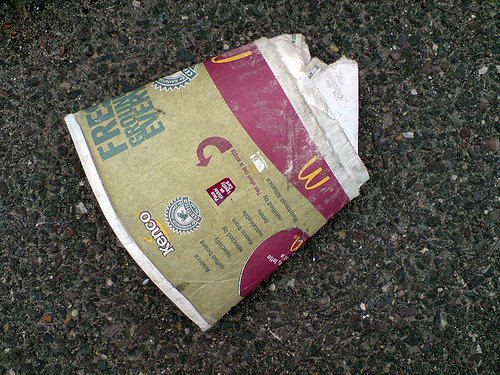litter: (64, 34, 373, 332)
